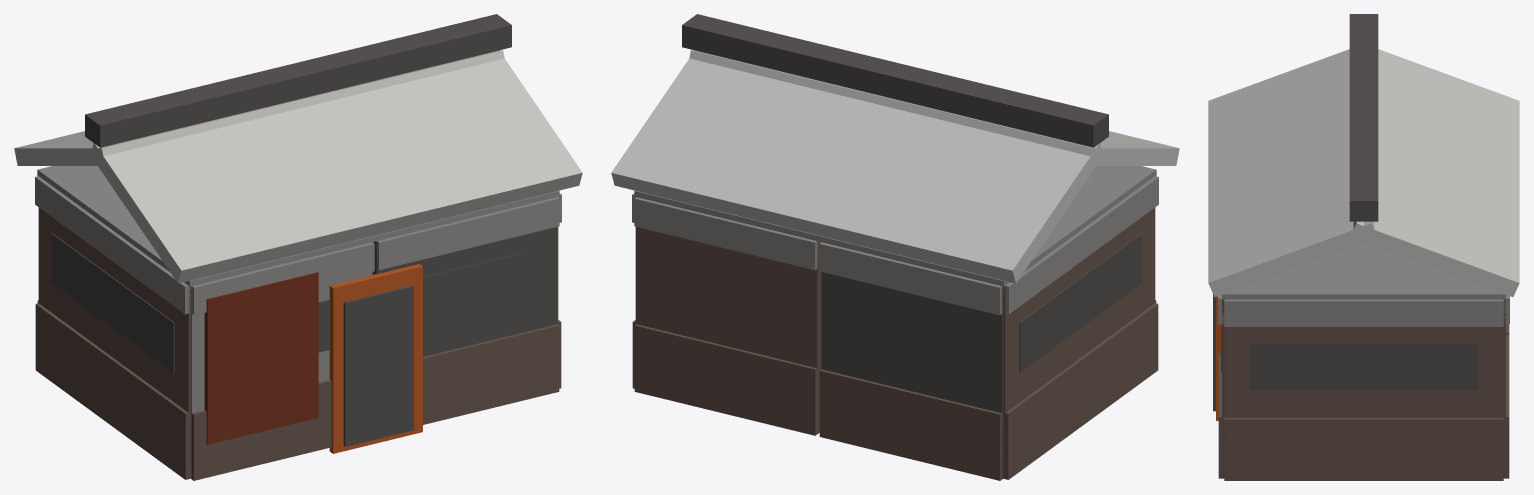
File: B_old_camp.glb
3 renders of one model, left to right at view 1: azimuth 30°, elevation 25°; view 2: azimuth 150°, elevation 25°; view 3: azimuth 270°, elevation 25°, orthographic. The views are drawn at different scales.
Visible parts, largest first — view 1: Cube.026, Cube.018, Cube.028, Cube.013, Cube.022, Cube.004, Cube.012, Cube.003, Cube.020, Cube.025, Cube.027, Cube.023 (+6 smaller); view 2: Cube.027, Cube.009, Cube.006, Cube.028, Cube.010, Cube.007, Cube.013, Cube.012, Cube.020, Cube.025, Cube.026, Cube.011 (+2 smaller); view 3: Cube.026, Cube.027, Cube.016, Cube.015, Cube.024, Cube.020, Cube.017, Cube.028, Cube.010, Cube.004, Cube.009, Cube.003 (+2 smaller).
Boxes of the visible parts, x1=… form: Cube.026: x1=90, y1=58, x2=582, y2=283; Cube.018: x1=204, y1=272, x2=318, y2=444; Cube.028: x1=85, y1=14, x2=511, y2=147; Cube.013: x1=35, y1=303, x2=190, y2=479; Cube.022: x1=343, y1=285, x2=413, y2=446; Cube.004: x1=423, y1=324, x2=559, y2=424; Cube.012: x1=38, y1=207, x2=190, y2=478; Cube.003: x1=372, y1=227, x2=557, y2=356; Cube.020: x1=37, y1=166, x2=559, y2=286; Cube.025: x1=51, y1=233, x2=174, y2=372; Cube.027: x1=14, y1=50, x2=504, y2=165; Cube.023: x1=318, y1=252, x2=523, y2=352; Cube.027: x1=611, y1=58, x2=1101, y2=283; Cube.009: x1=636, y1=227, x2=821, y2=433; Cube.006: x1=821, y1=272, x2=1003, y2=479; Cube.028: x1=682, y1=14, x2=1108, y2=147; Cube.010: x1=634, y1=324, x2=817, y2=435; Cube.007: x1=819, y1=369, x2=1002, y2=480; Cube.013: x1=1003, y1=303, x2=1158, y2=479; Cube.012: x1=1003, y1=207, x2=1155, y2=478; Cube.020: x1=634, y1=166, x2=1156, y2=286; Cube.025: x1=1019, y1=233, x2=1142, y2=372; Cube.026: x1=689, y1=50, x2=1179, y2=165; Cube.011: x1=634, y1=197, x2=819, y2=270; Cube.026: x1=1208, y1=49, x2=1376, y2=296; Cube.027: x1=1351, y1=49, x2=1519, y2=296; Cube.016: x1=1224, y1=418, x2=1503, y2=480; Cube.015: x1=1224, y1=327, x2=1503, y2=417; Cube.024: x1=1250, y1=343, x2=1477, y2=389; Cube.020: x1=1222, y1=243, x2=1505, y2=299; Cube.017: x1=1224, y1=299, x2=1503, y2=326; Cube.028: x1=1349, y1=14, x2=1378, y2=221; Cube.010: x1=1503, y1=335, x2=1509, y2=478; Cube.004: x1=1218, y1=354, x2=1224, y2=478; Cube.009: x1=1503, y1=299, x2=1505, y2=478; Cube.003: x1=1222, y1=299, x2=1224, y2=478.
Bounding box in the file's own units: 7.8 × 5.7 × 5.49.
